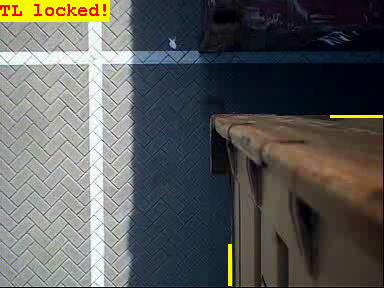groundmarker_2: (78, 130, 175, 193), (86, 21, 182, 83)
